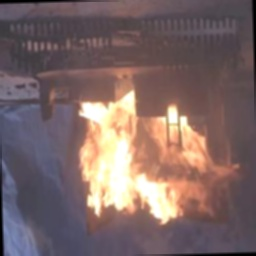fire: (74, 93, 227, 233)
